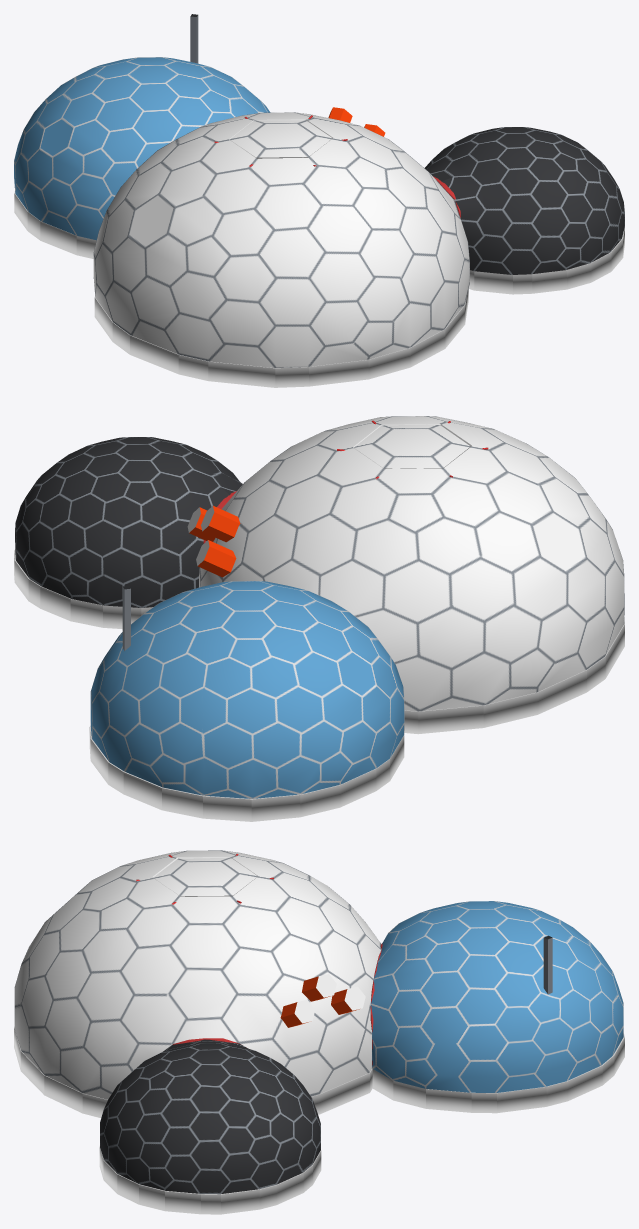
Rendered from domecompiledV2.1.fbx.
3 renders of one model, top to bottom at view 1: azimuth 30°, elevation 25°; view 2: azimuth 150°, elevation 25°; view 3: azimuth 270°, elevation 25°, orthographic. The views are drawn at different scales.
Visible parts, largest first — view 1: domes, new_floor; view 2: domes, new_floor, wallplanters, waterfiltration; view 3: domes, new_floor, wallplanters, waterfiltration.
Boxes of the visible parts, x1,y1,x2,y2 form: domes: [14, 57, 624, 367]; new_floor: [14, 191, 624, 387]; domes: [15, 416, 624, 798]; new_floor: [14, 549, 624, 821]; wallplanters: [187, 505, 240, 577]; waterfiltration: [122, 585, 130, 650]; domes: [14, 850, 623, 1194]; new_floor: [14, 1026, 624, 1214]; wallplanters: [280, 974, 365, 1027]; waterfiltration: [543, 935, 552, 994].
Size of the model in its own units: 0.1765 by 0.0604 by 0.1864.
